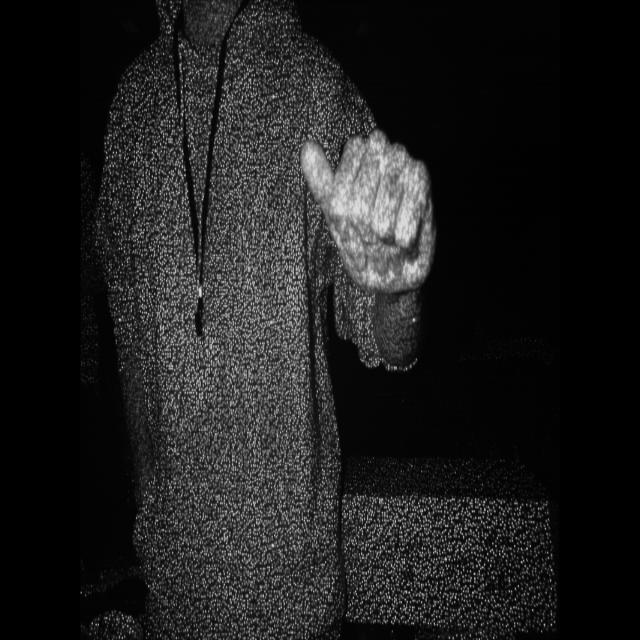A: (292, 116, 462, 326)
